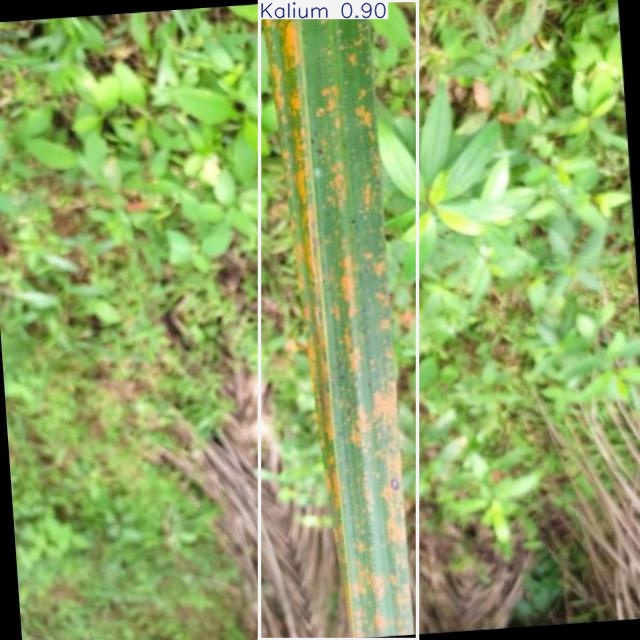Kalium: (260, 0, 418, 640)
